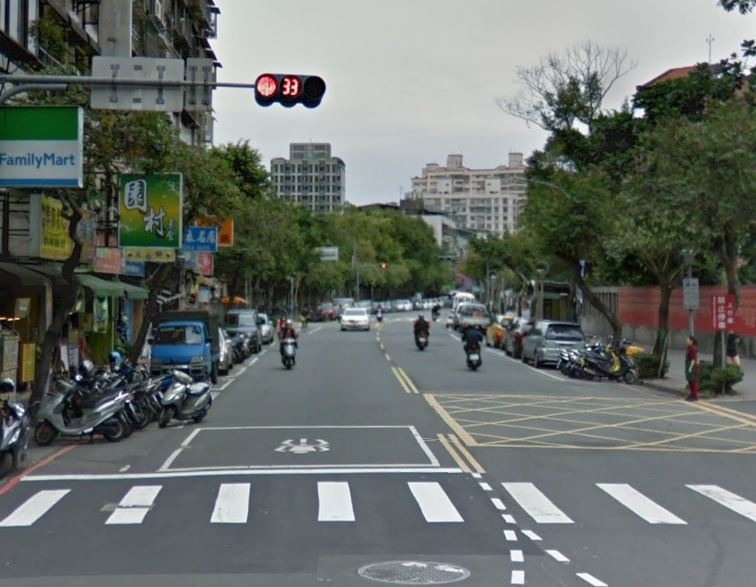Traffic_light_red: (252, 72, 327, 109)
